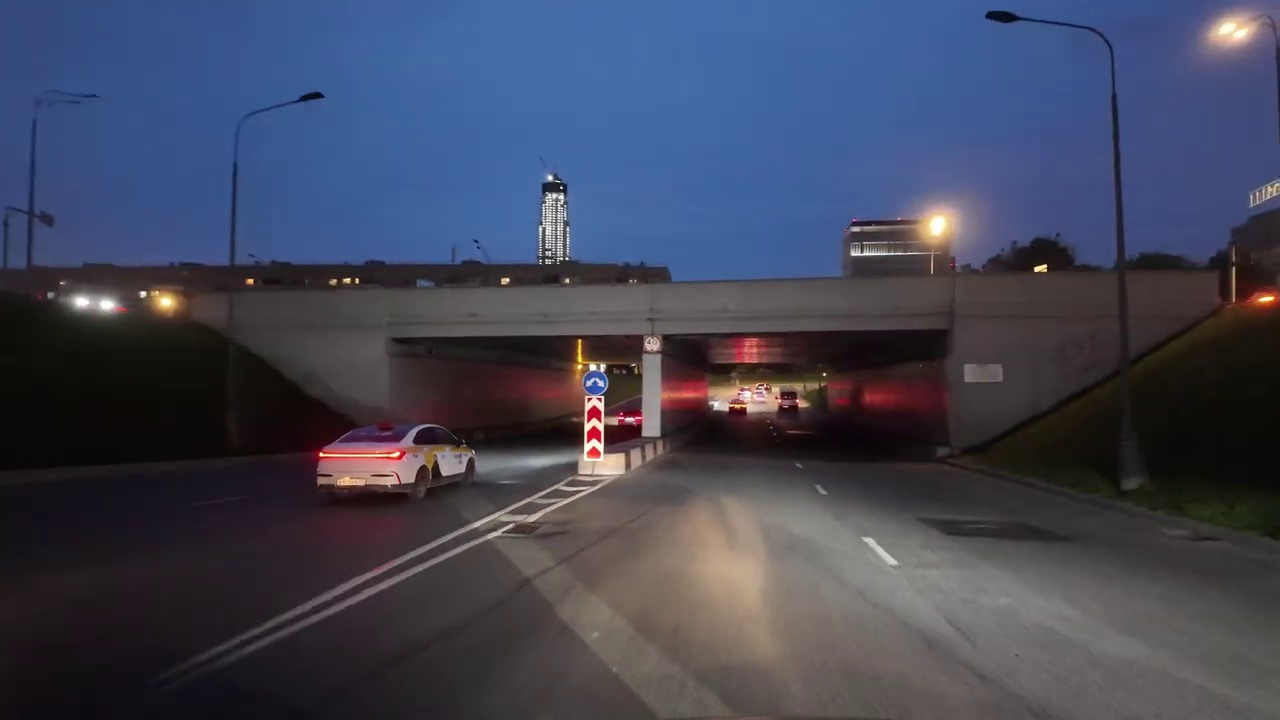acesa: (915, 207, 957, 247), (1212, 16, 1254, 46)
apagada: (978, 4, 1026, 40), (293, 86, 325, 109)
